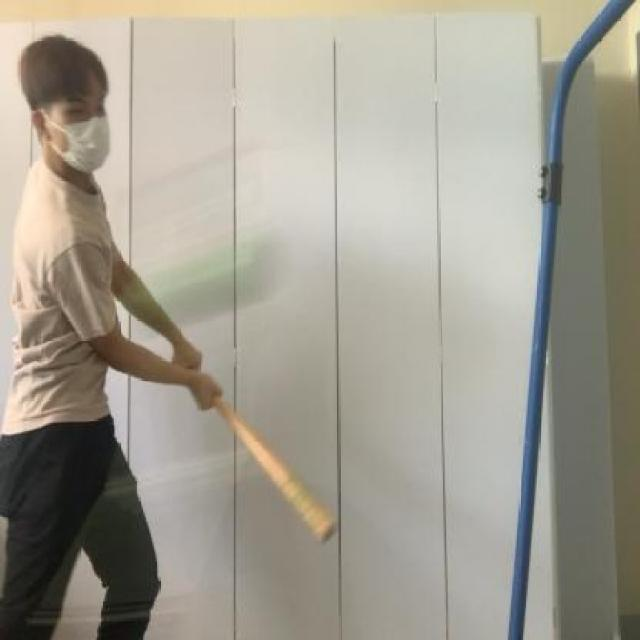baseball: (88, 212, 286, 341)
